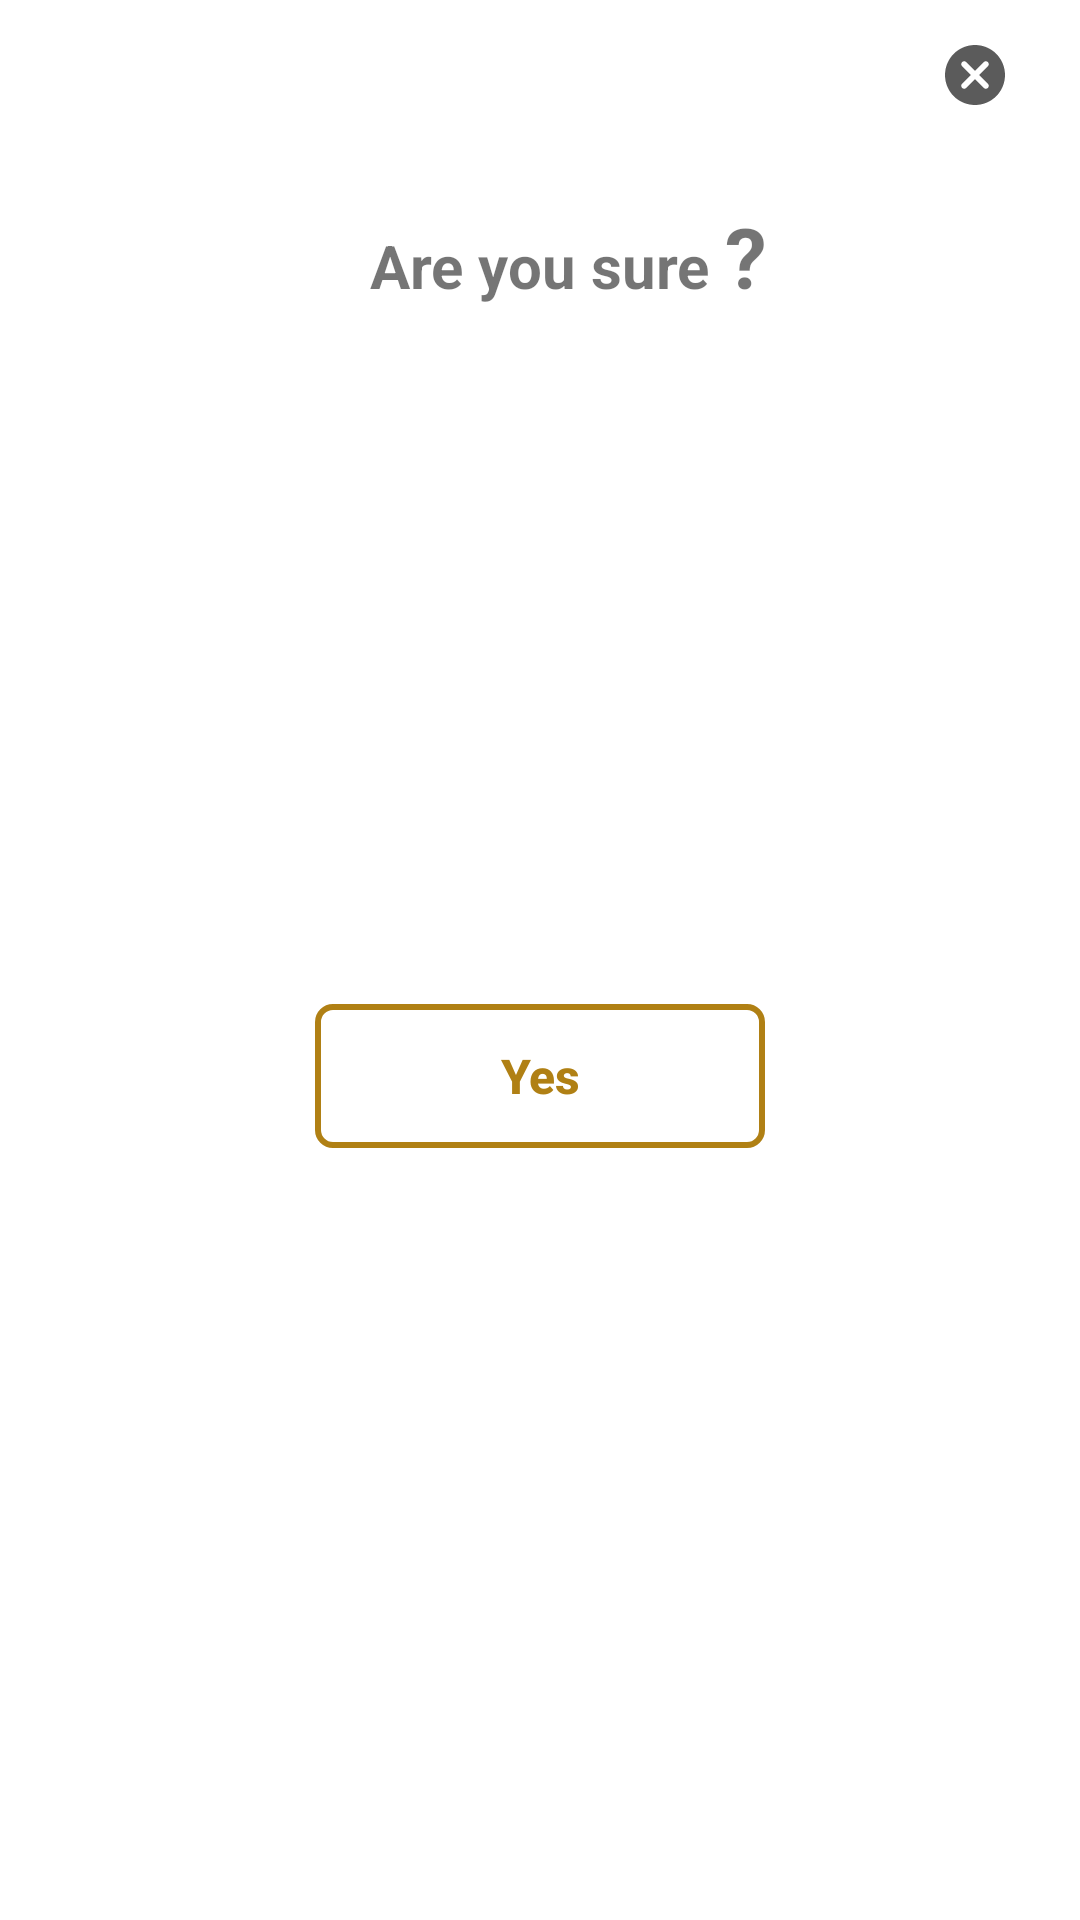

Named icons in this screenshot (1080 x 1920) and their centers, [x,y]:
cancel: [975,75]
